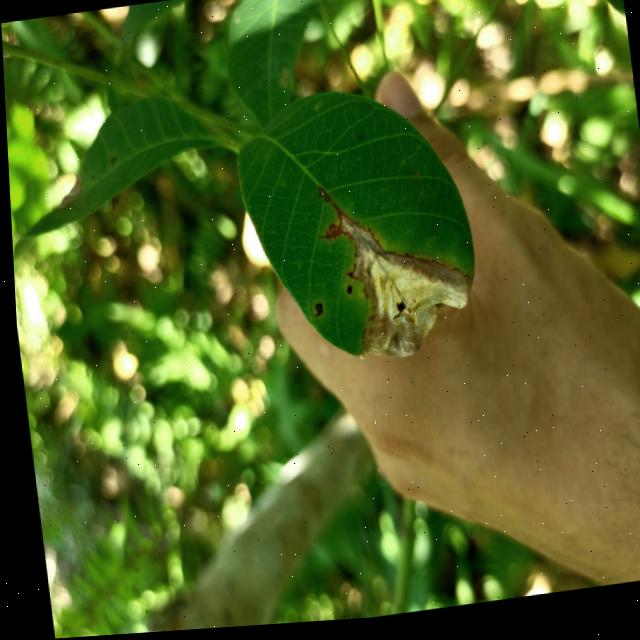Colletotrichum: (322, 198, 327, 205)
Corynespora: (315, 188, 341, 222), (313, 224, 342, 246), (308, 305, 320, 322)
Leaf-Blight: (337, 204, 476, 367)
